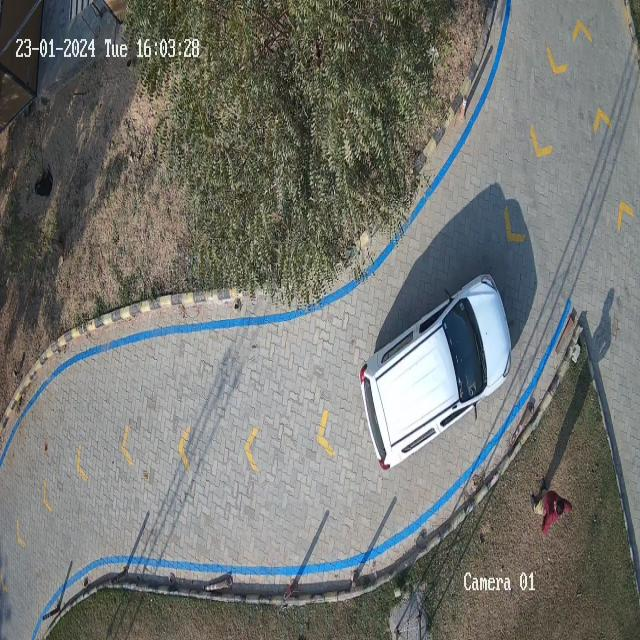car: (361, 276, 510, 468)
